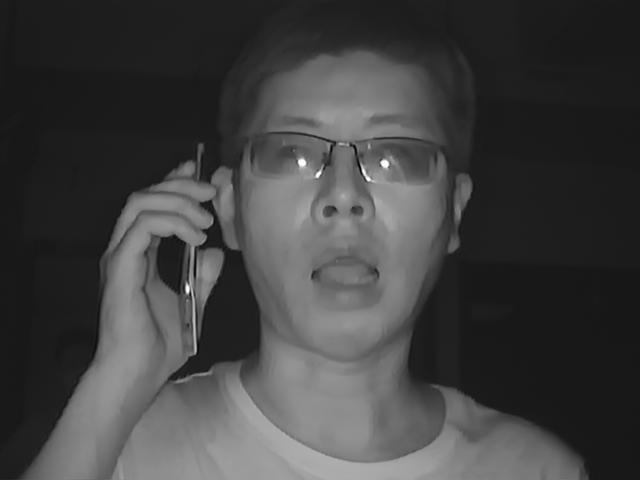hand: (94, 157, 223, 366)
